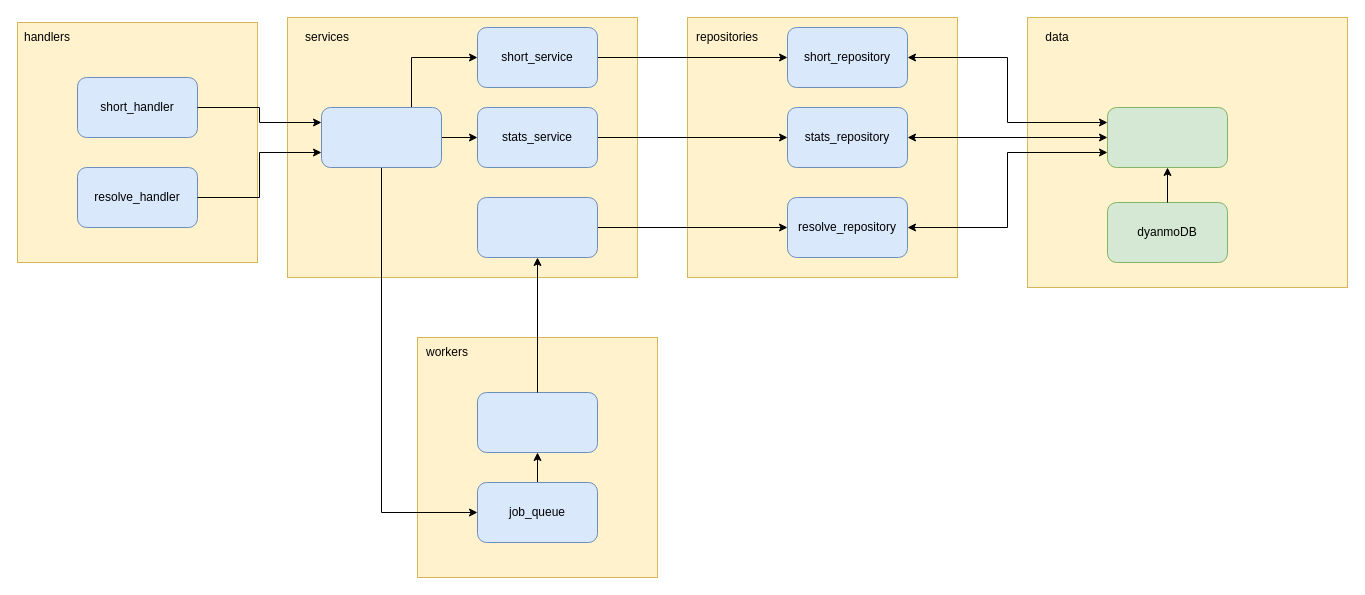
Some shapes in this 1365 by 595 pixel diagram are drawn without their labels. The shapes that lost their labels are listed below. From the top down, each one's centre as x and y in pixels, then its label:
[381,137]: service_orchestrator
[1167,137]: db
[537,227]: resolve_service
[537,422]: worker
